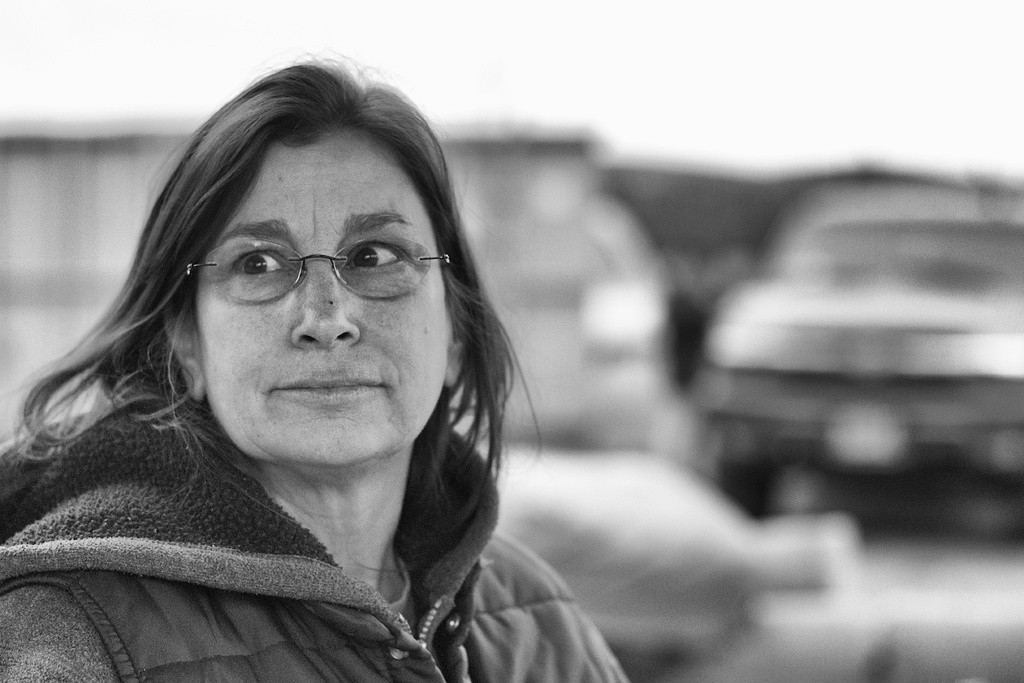cars: (695, 189, 1022, 519)
